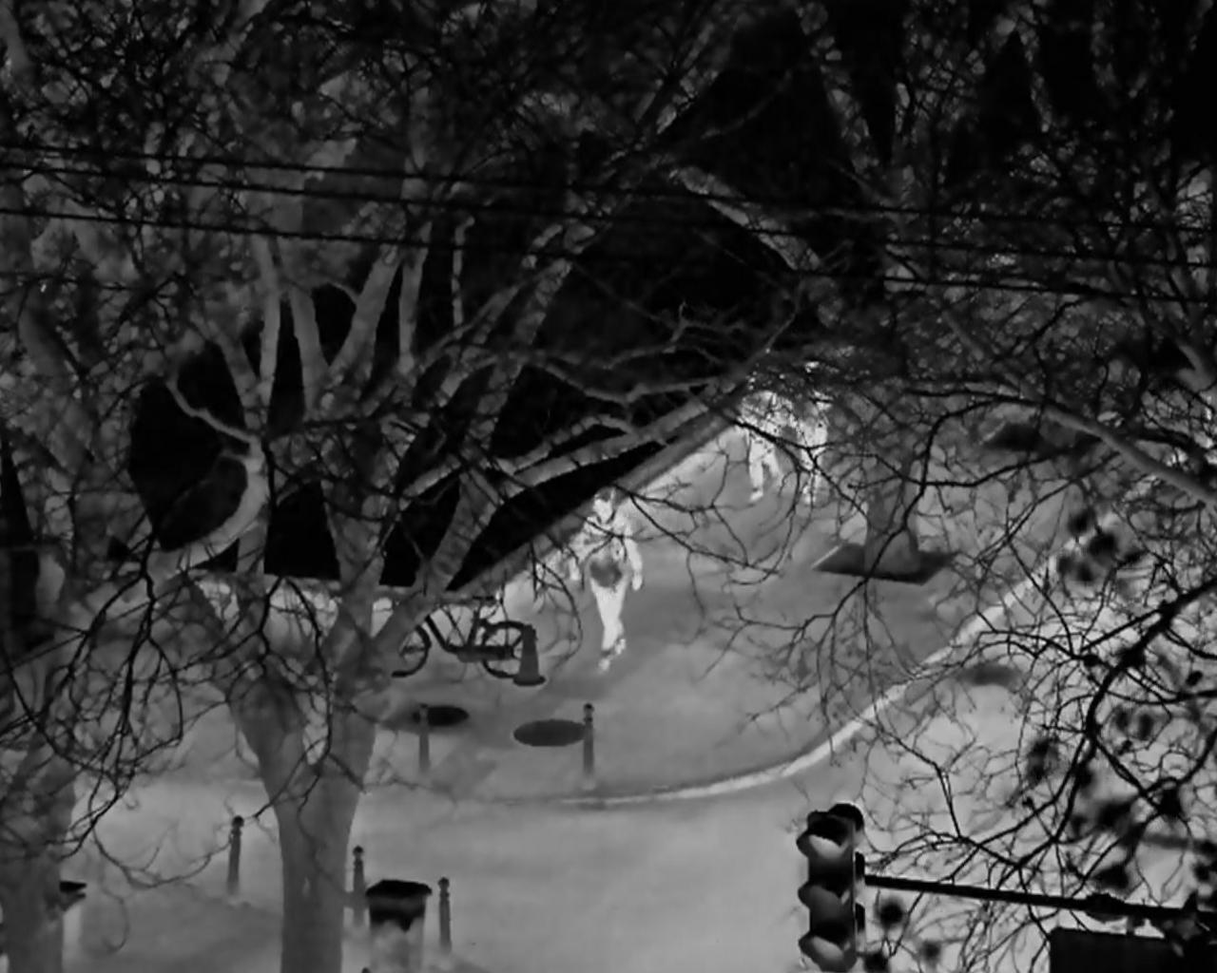person: (567, 486, 644, 671), (740, 391, 793, 505), (790, 391, 833, 507)
